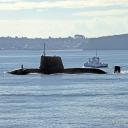submarine: (8, 57, 122, 76)
